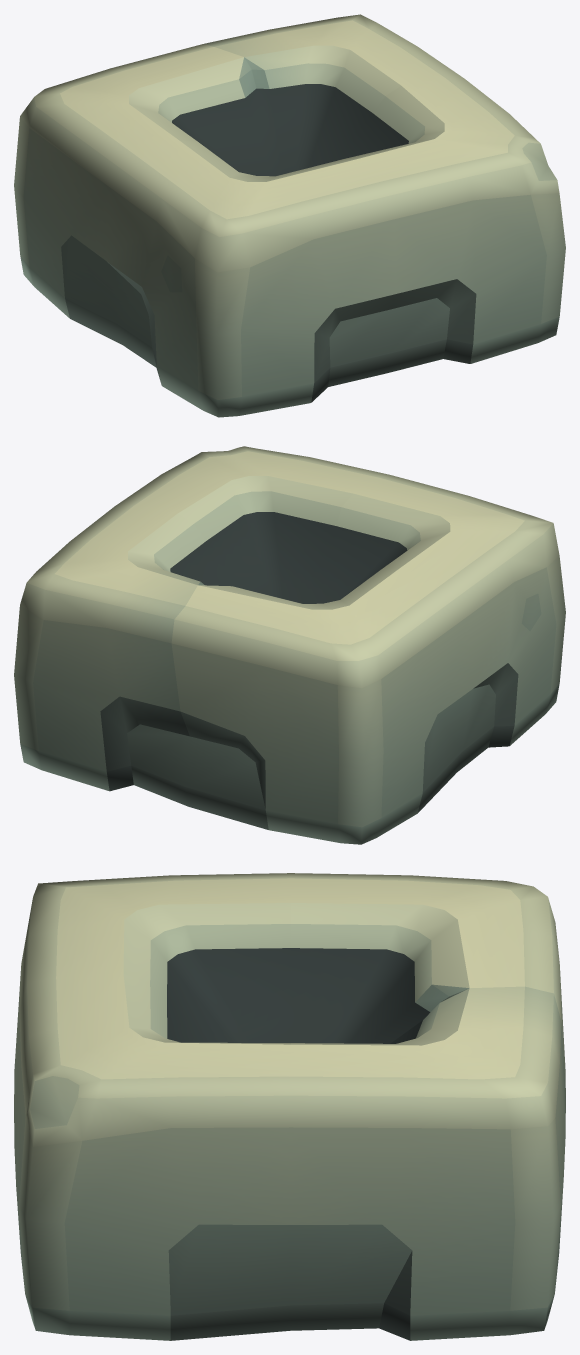
The model's file is block_stone1_3_half_torch_LOD_group.fbx.
3 renders of one model, top to bottom at view 1: azimuth 30°, elevation 25°; view 2: azimuth 150°, elevation 25°; view 3: azimuth 270°, elevation 25°, orthographic. The views are drawn at different scales.
Visible parts, largest first — view 1: block_stone1_3_half_torch_LOD0; view 2: block_stone1_3_half_torch_LOD0; view 3: block_stone1_3_half_torch_LOD0.
Boxes of the visible parts, x1=… form: block_stone1_3_half_torch_LOD0: x1=14, y1=14, x2=565, y2=417; block_stone1_3_half_torch_LOD0: x1=14, y1=446, x2=565, y2=844; block_stone1_3_half_torch_LOD0: x1=14, y1=873, x2=565, y2=1340.
Size of what is drawn, in the model's own units: 109 by 58.56 by 109.
Materials: 1 (1 with a texture image).
